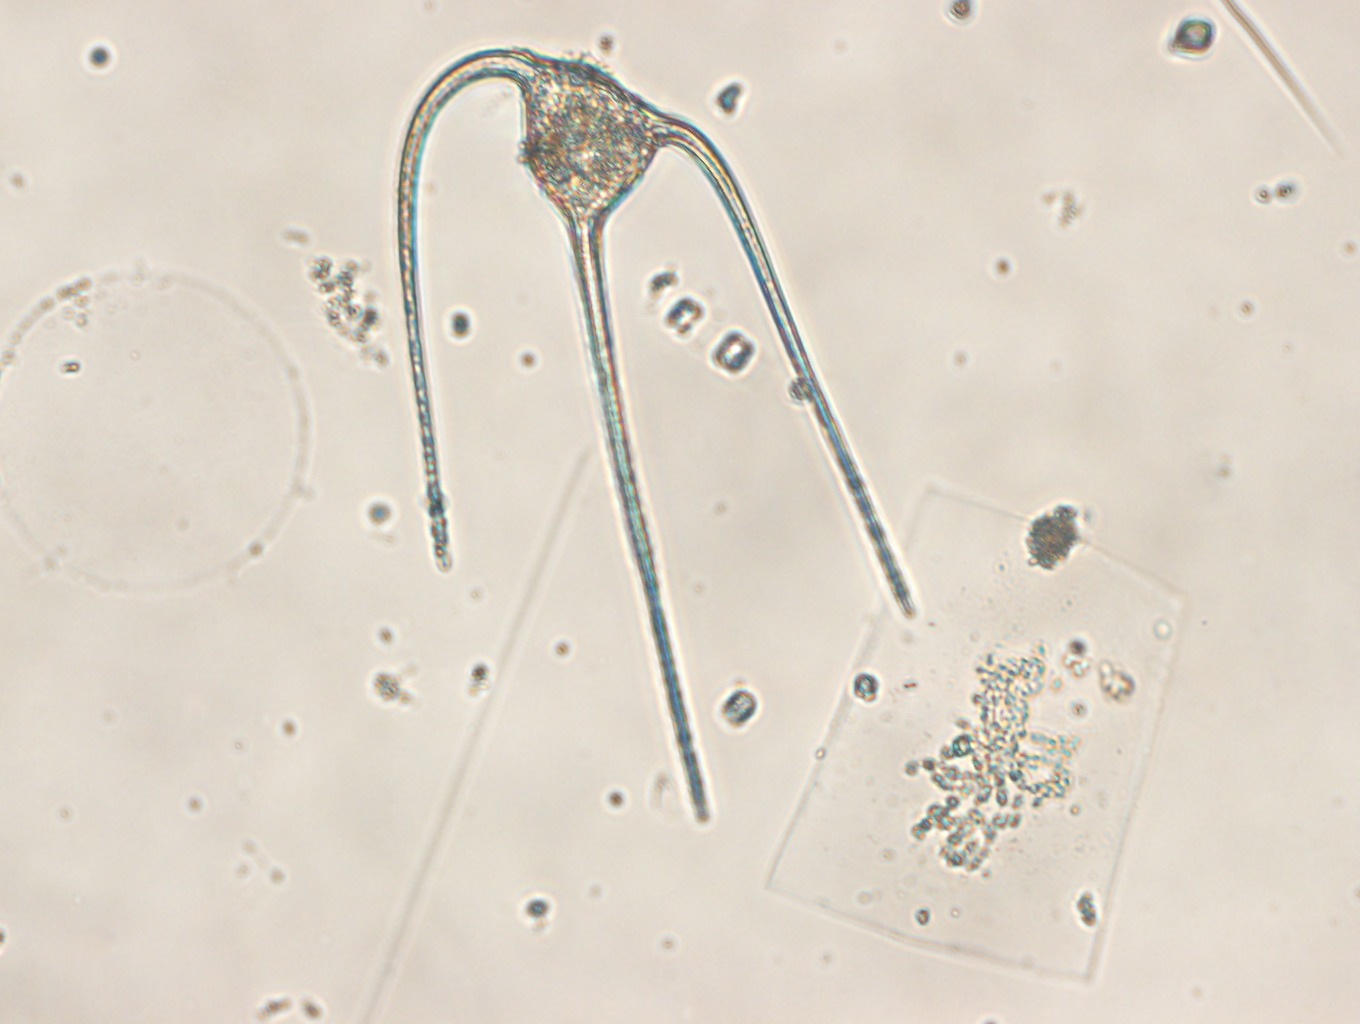ceratium trichoceros: (395, 43, 914, 822)
helicotheca: (764, 486, 1191, 980)
